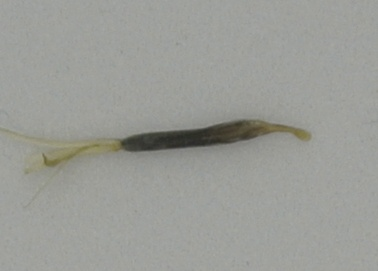เมล้ดปลายพู่กัน: (1, 116, 311, 212)
